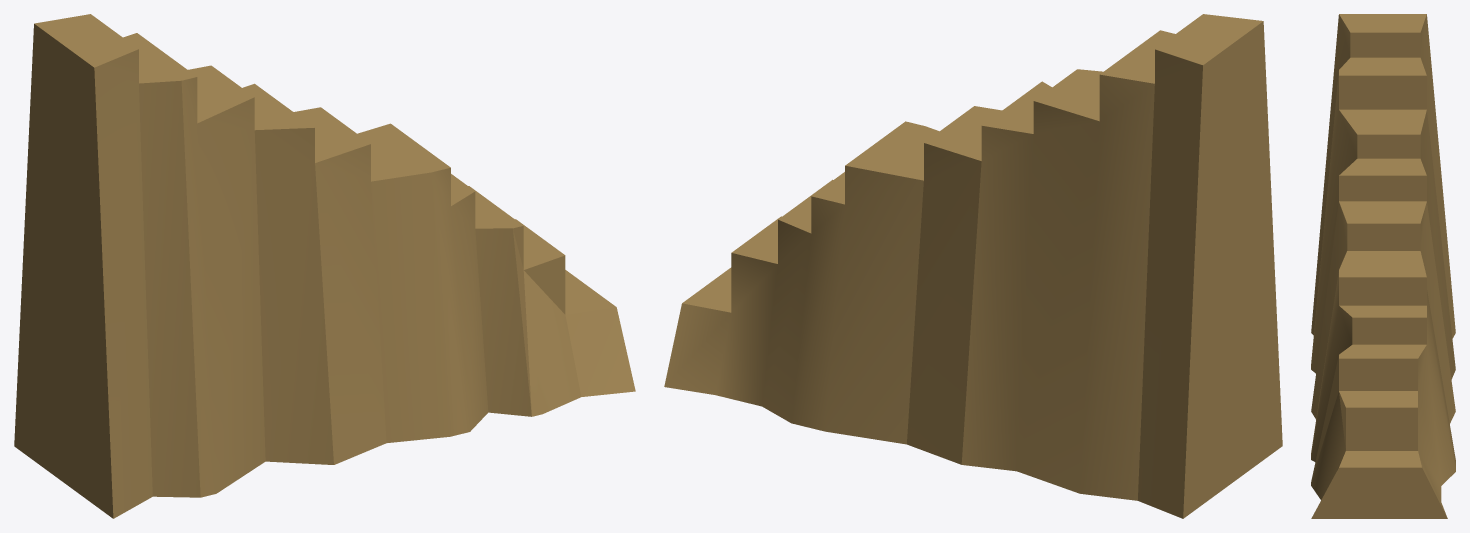
Rendered from Terrain_Tile_Dirt_Stairs_03.fbx.
The picture shows the model from 3 angles, left to right: view 1: azimuth 30°, elevation 25°; view 2: azimuth 150°, elevation 25°; view 3: azimuth 270°, elevation 25°; orthographic projection. The views are drawn at different scales.
Parts seen in each view (by area): view 1: Model; view 2: Model; view 3: Model.
Boxes of the visible parts, box(x1,y1,x2,y2) form: Model: box(14, 14, 635, 518); Model: box(664, 14, 1282, 518); Model: box(1311, 14, 1455, 518).
Size of the model in its own units: 2500 by 2000 by 822.
